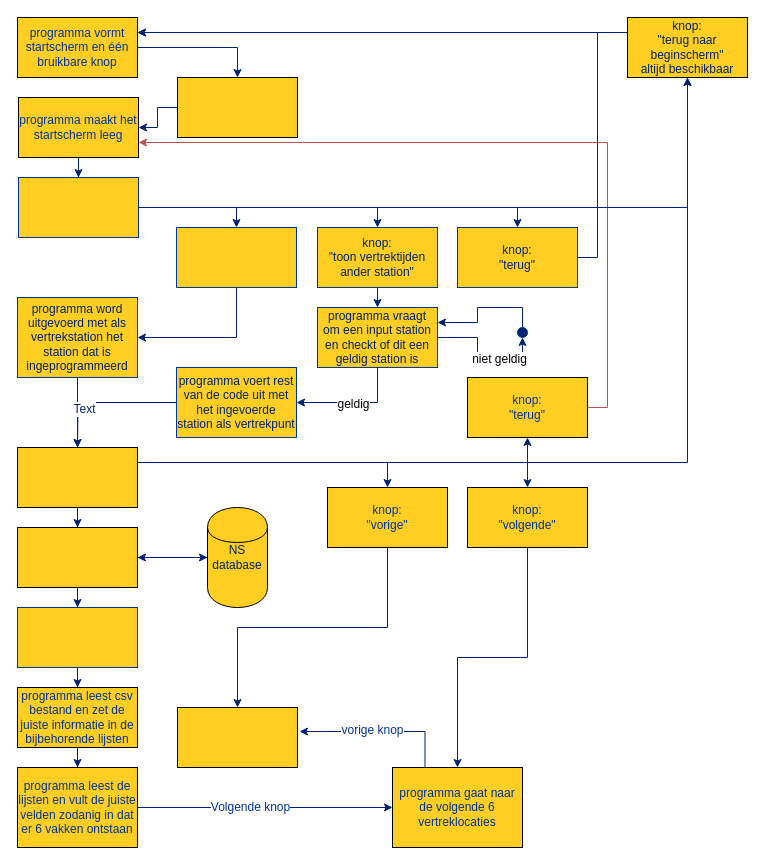
Image size: 765x865. Some labels were removed from this diagram. The centre of each missing label's shape, as x and y in pixels:
er word op de knop "Toon actuele reistijden" gedrukt: point 237,107
knop: "toon vertrektijden dit station": point 236,257
programma doet een api call om actuele vertrekinformatie op te halen: point 77,557
programma gaat naar de vorige 6 vertreklocaties: point 237,737
programma maakt een keuzemenu met drie bruikbare knoppen: point 78,207
programma maakt een veld voor de actuele tijd en maakt drie knoppen: point 77,477
programma zet alle informatie over naar een csv bestand: point 77,637
